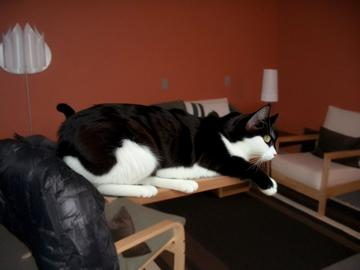cat: (56, 103, 277, 197)
chair: (6, 135, 186, 270), (270, 104, 360, 213)
